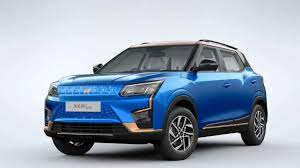XUV 400: (40, 39, 268, 161)
